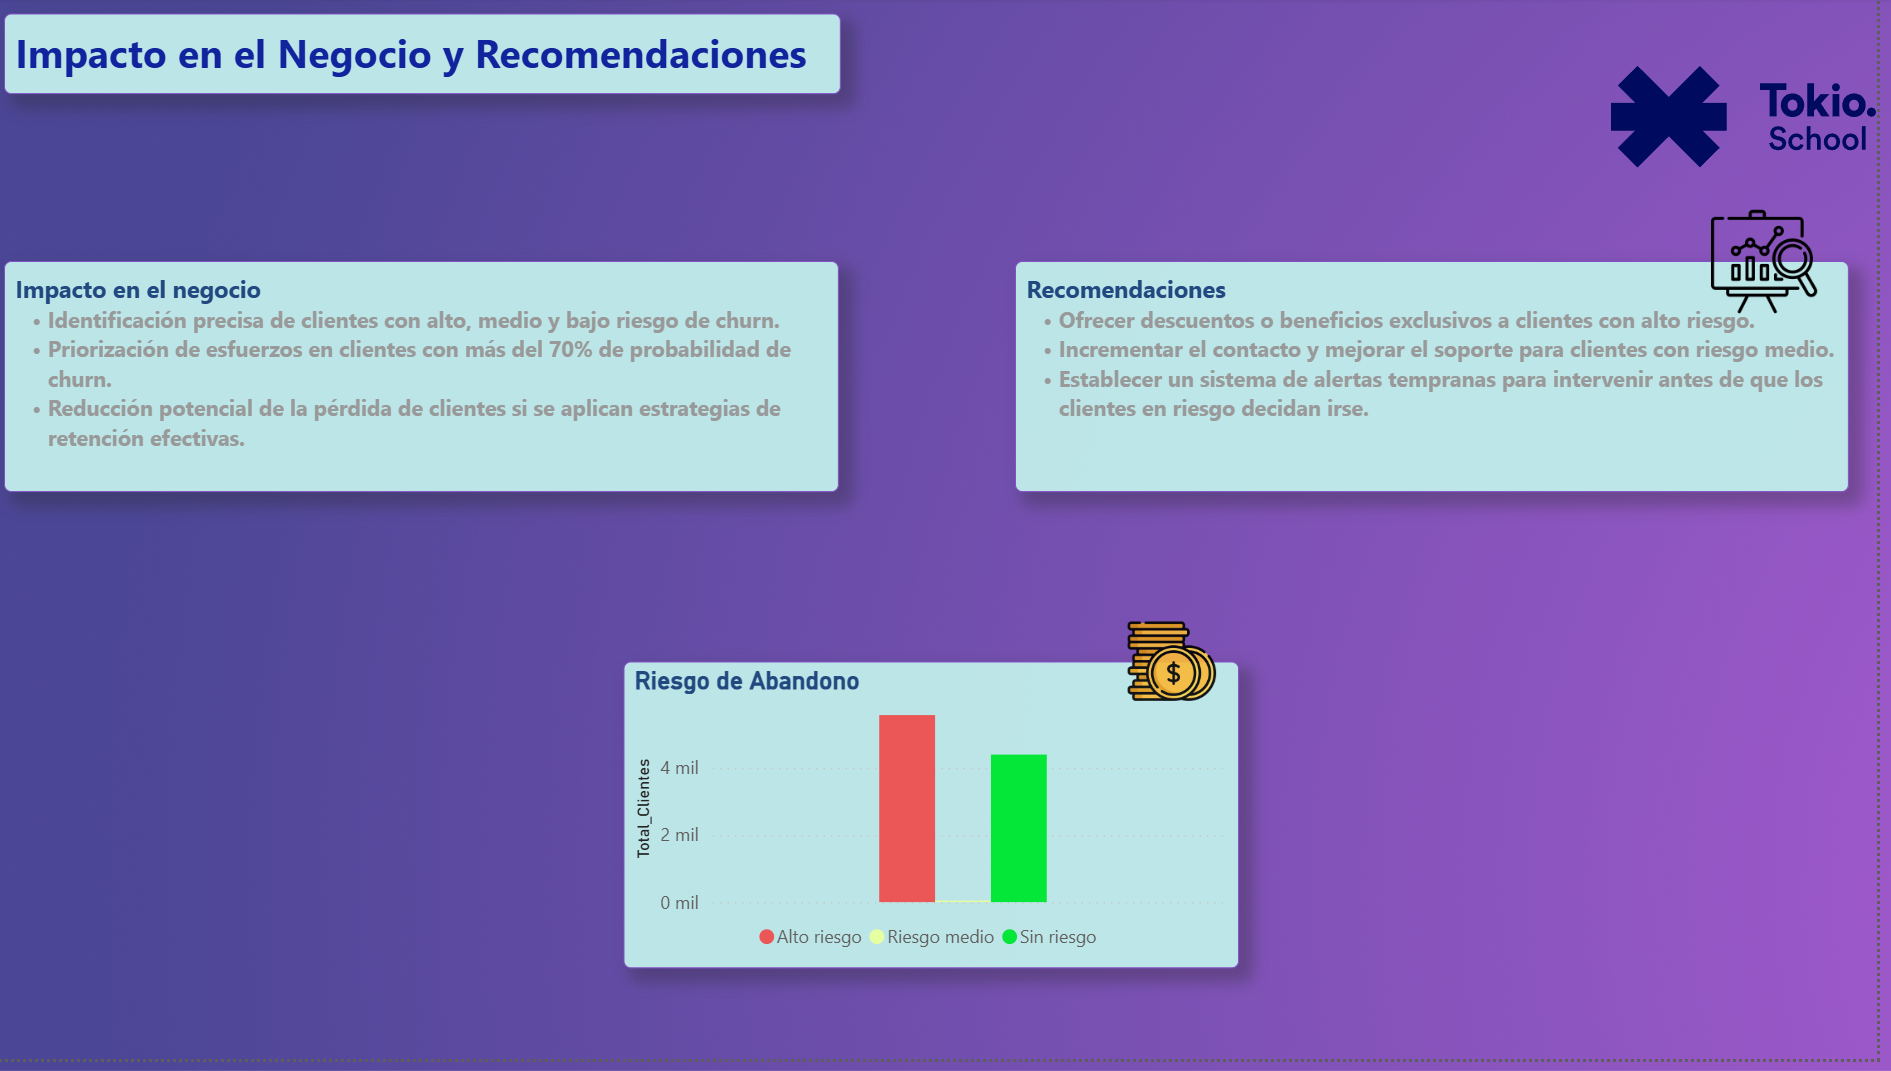

The dashboard page shown, as its layout file describes it:
{"tool":"powerbi","page":{"name":"11 - Impacto en el negocio y recomendaciones","canvas":[1280,720],"ordinal":10},"visuals":[{"type":"textbox","box":[10.5,11.6,567.4,54.7],"z":0},{"type":"textbox","box":[10.5,179.1,566.3,157],"z":1000},{"type":"textbox","box":[695.4,179.1,565.1,157],"z":2000},{"type":"clusteredColumnChart","title":"Riesgo de Abandono","fields":{"Y":["predicciones_churn_powerbi.Total_Clientes"],"Series":["predicciones_churn_powerbi.Nivel_Riesgo"]},"box":[430.2,450,417.4,208.1],"z":3000},{"type":"image","box":[757,419.8,90.7,60.5],"z":4000},{"type":"image","box":[1126.7,143,153.5,72.1],"z":5000},{"type":"image","box":[1099.8,0,180.2,162.8],"z":6000}]}

Visuals, with their boxes in screenshot pixels (x1, y1, x2, y2), scaled from the page's 1280x720 canvas onto the 1891x1071 screenshot:
textbox: 16,17,854,99
textbox: 16,266,852,500
textbox: 1027,266,1862,500
"Riesgo de Abandono" clusteredColumnChart: 636,669,1252,979
image: 1118,624,1252,714
image: 1665,213,1890,320
image: 1625,0,1890,242
